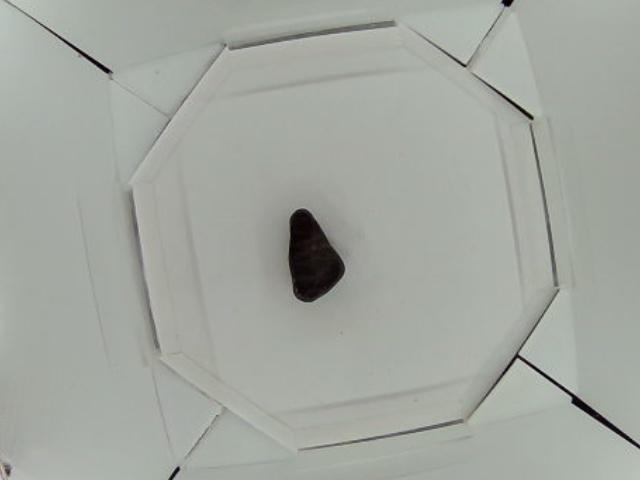Pebble: (290, 208, 344, 304)
